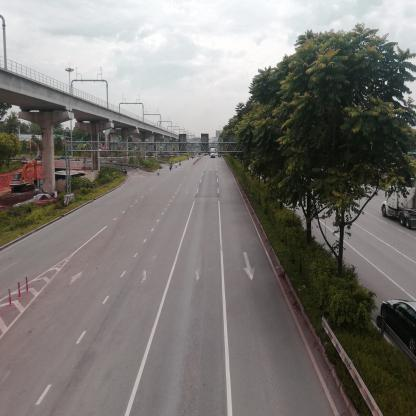container: (384, 184, 416, 230), (210, 149, 216, 158)
motorbike: (169, 164, 172, 172), (175, 162, 178, 170), (159, 171, 161, 176)
